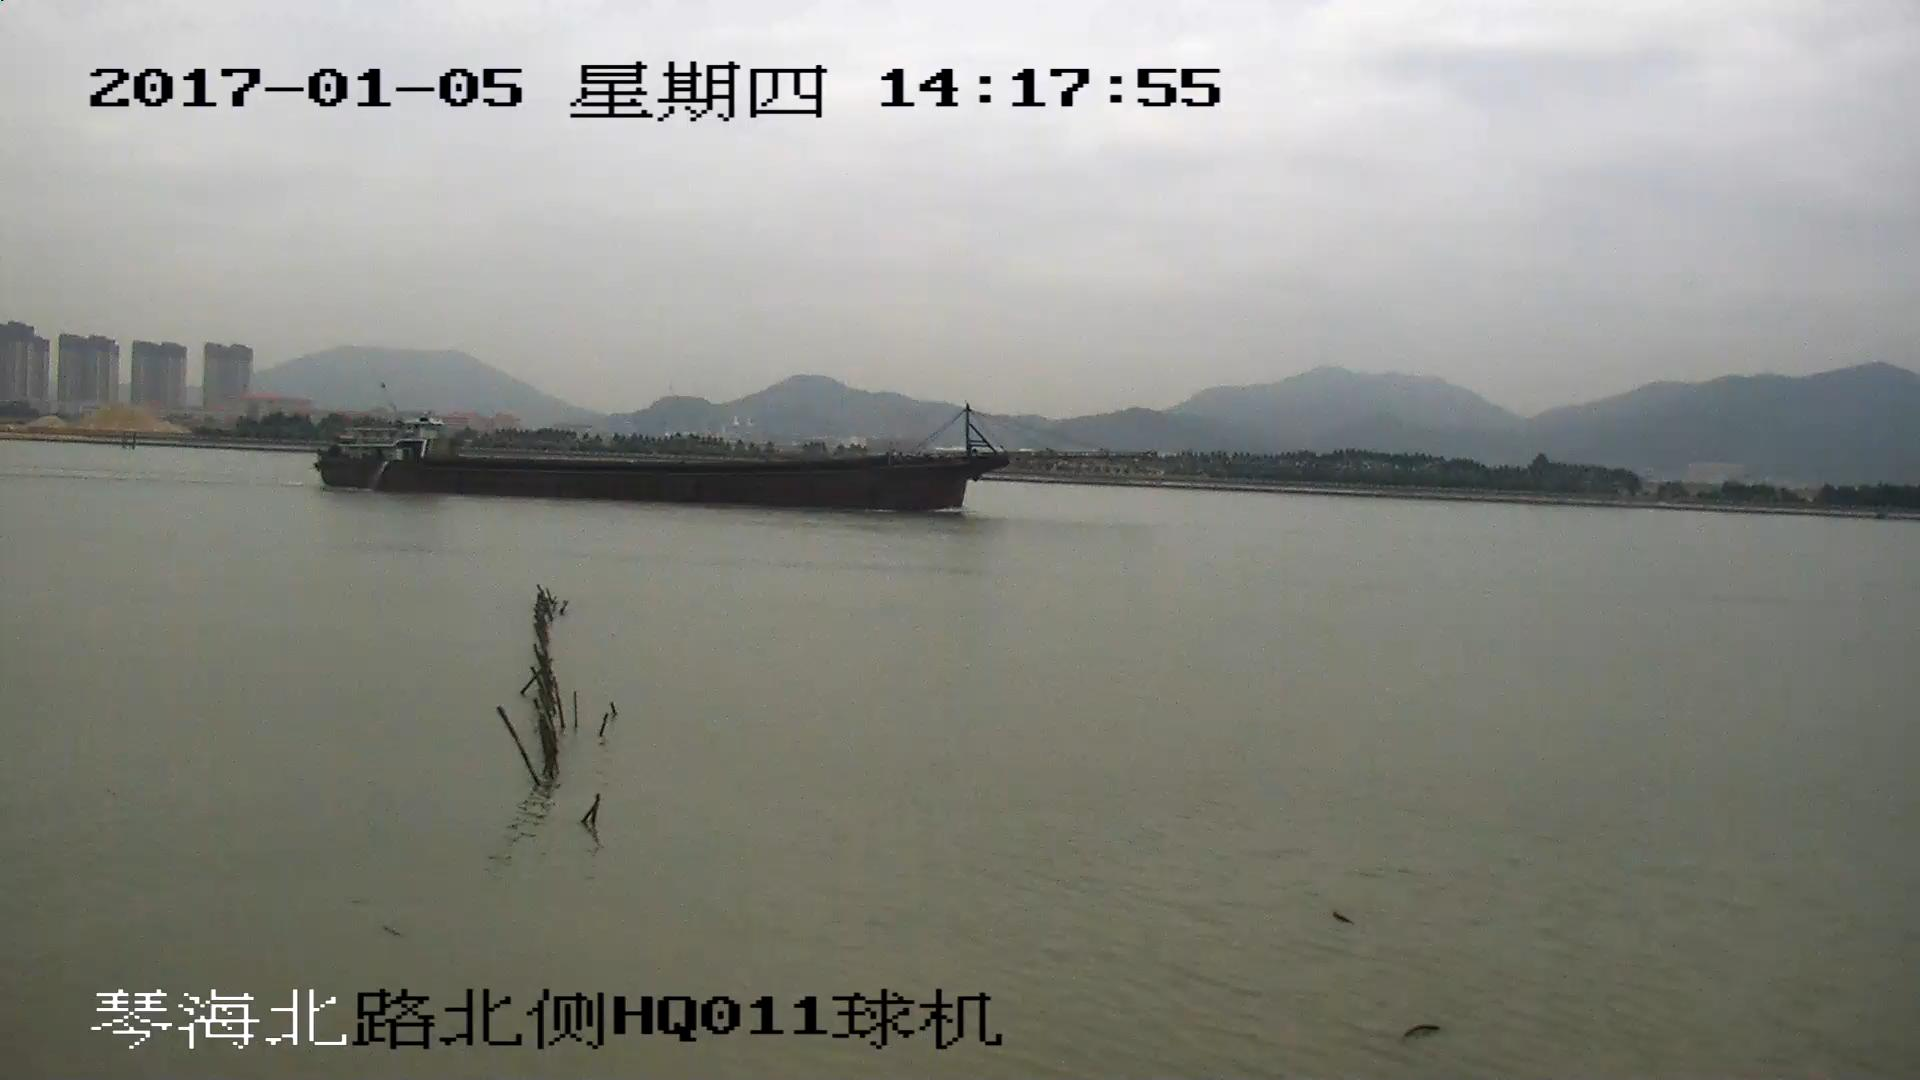bulk cargo carrier: (316, 398, 1118, 513)
